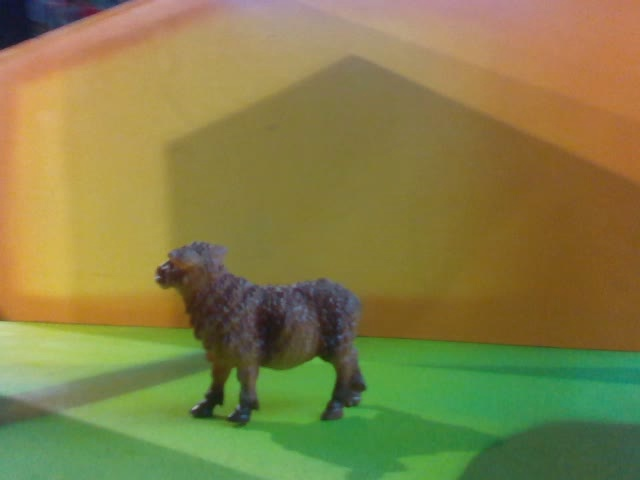toy: (152, 239, 367, 423)
